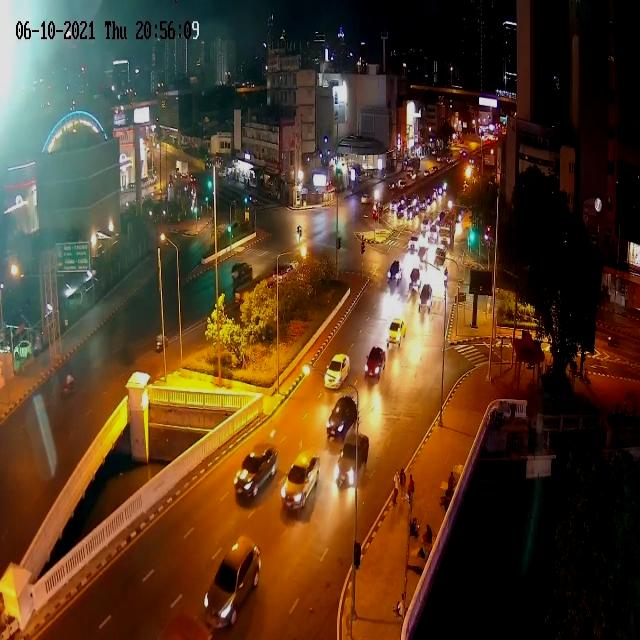Car: (204, 538, 261, 629), (233, 439, 275, 506), (280, 448, 318, 514), (338, 436, 369, 484), (327, 397, 356, 441), (324, 349, 349, 392), (363, 348, 386, 380), (385, 318, 408, 345), (233, 262, 253, 290), (419, 284, 433, 314), (387, 260, 402, 286), (410, 267, 421, 292), (409, 232, 419, 252), (428, 224, 438, 244), (421, 216, 431, 234), (388, 198, 398, 212), (361, 195, 370, 204), (421, 198, 427, 210), (442, 181, 447, 191)
Truck: (439, 210, 455, 247)
